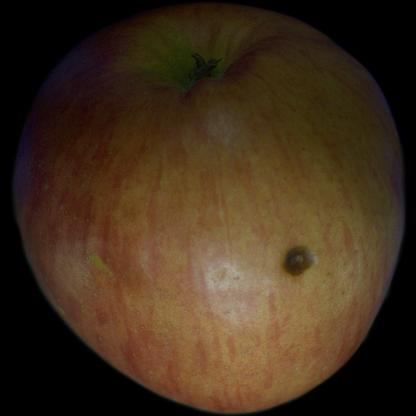defect: (257, 223, 332, 297)
